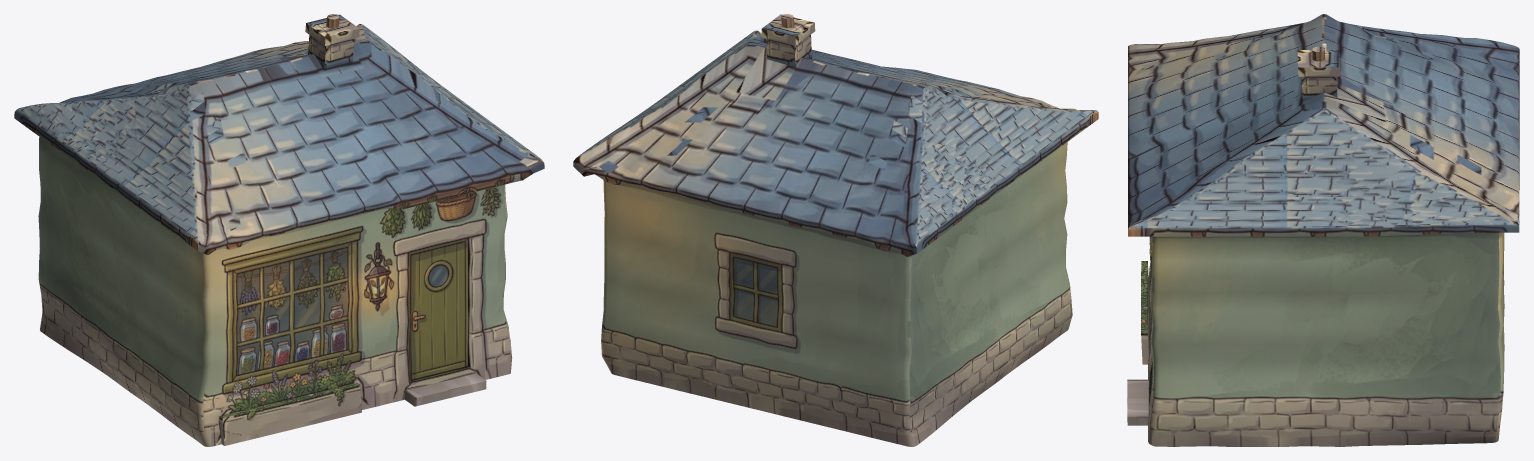
File: havre_herboristerie.glb
3 views of the same model, side by side, from view 1: azimuth 30°, elevation 25°; view 2: azimuth 150°, elevation 25°; view 3: azimuth 270°, elevation 25° (orthographic). The views are drawn at different scales.
Visible parts, largest first — view 1: maison; view 2: maison; view 3: maison.
Boxes of the visible parts, bbox=[...] form: maison: bbox=[14, 14, 544, 446]; maison: bbox=[573, 14, 1098, 446]; maison: bbox=[1127, 14, 1519, 446].
Size of the model in its own units: 6.33 by 5.66 by 5.82.
1 material, 1 textured.
